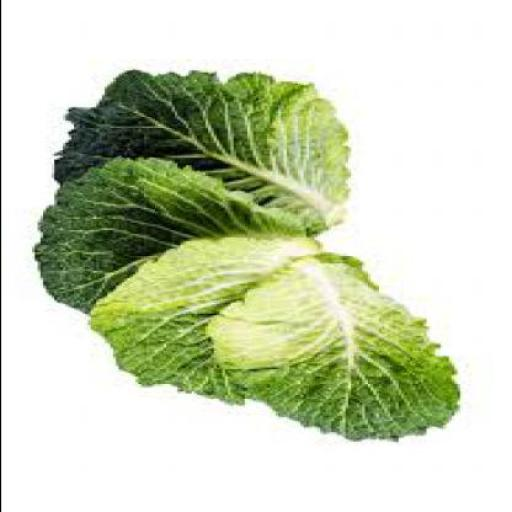biodegradable: (201, 252, 456, 440), (51, 69, 344, 226), (31, 154, 319, 311), (87, 235, 324, 403)
